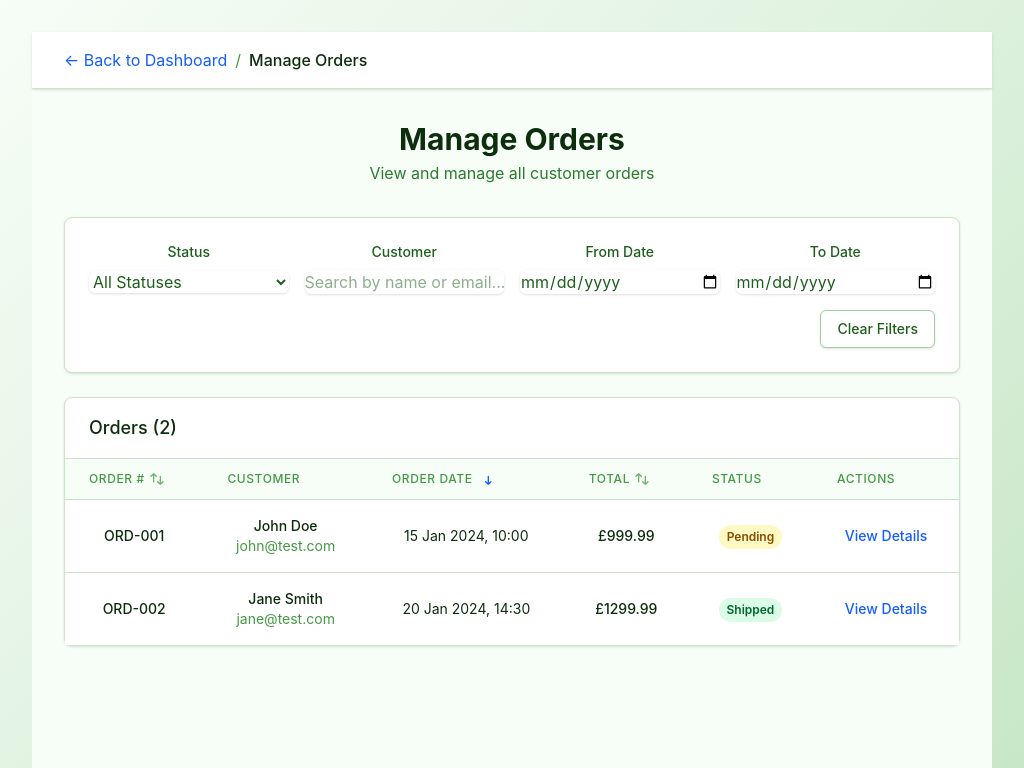
Test case: AdminOrdersListPage › Filtering › should clear all filters
Expected: the text "ORD-001" is shown, 65,500 -> 203,572
Note: Set some filters first
Select "Pending" in the dropdown showing "All Statuses" at (189, 282), box 89,271 -> 288,293
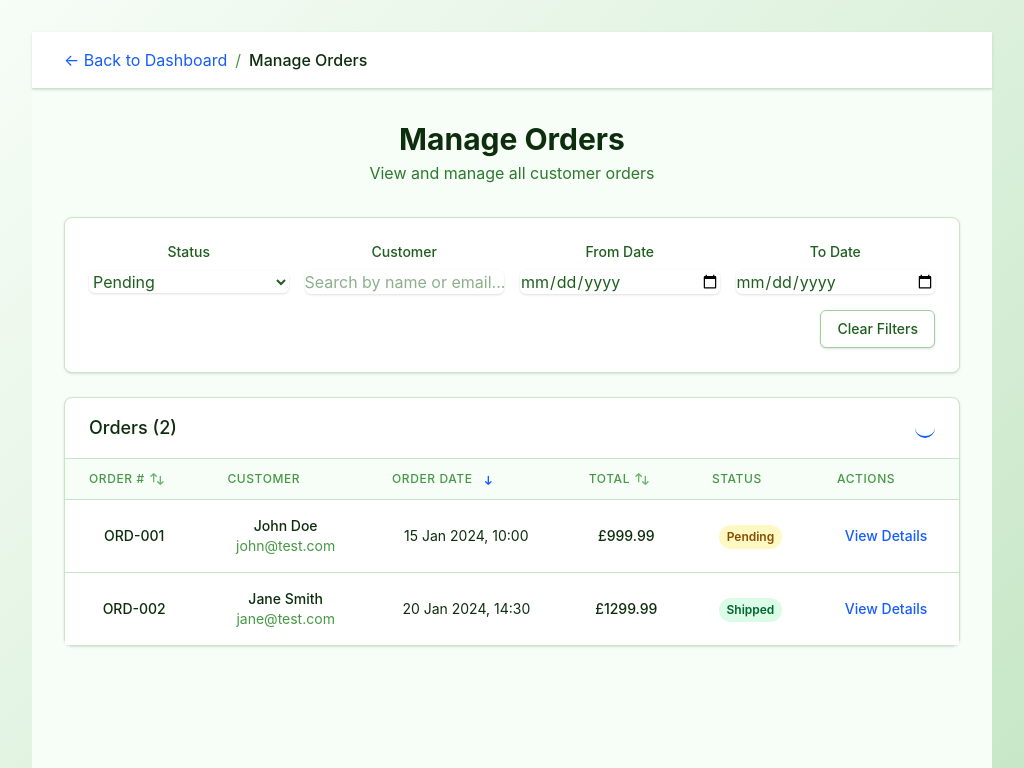
Type "john" into the field with placeholder "Search by name or email..." at (404, 282), box 304,270 -> 504,294
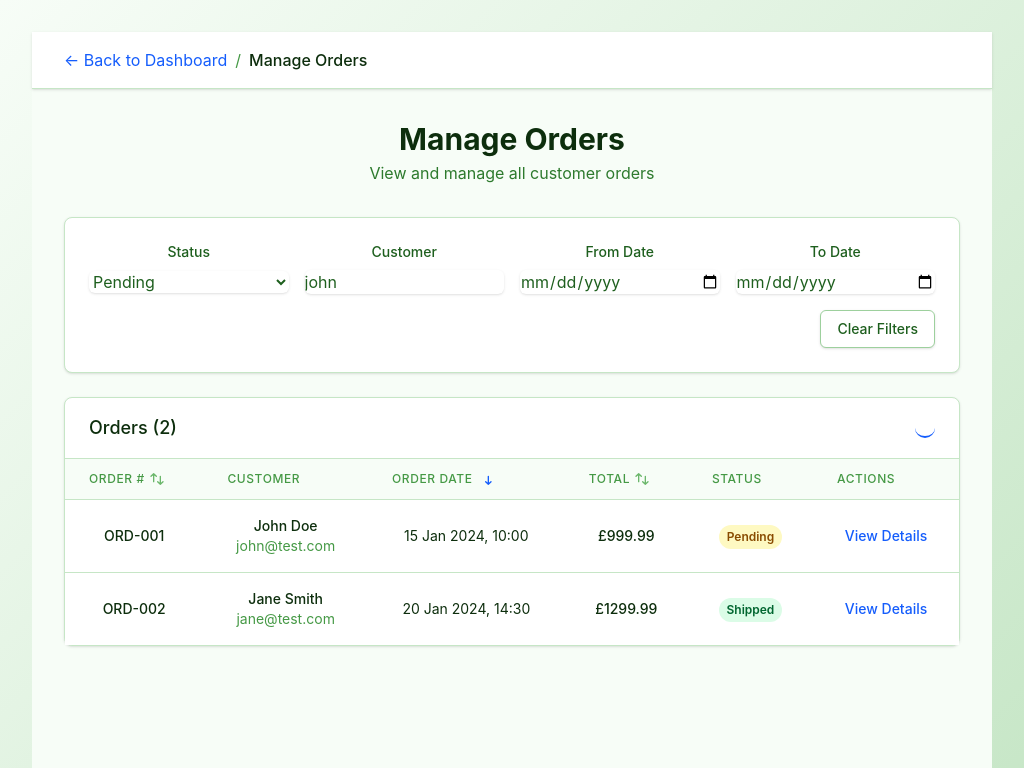
Note: Clear filters
Click the button "Clear Filters" at (878, 329), box 820,310 -> 935,348
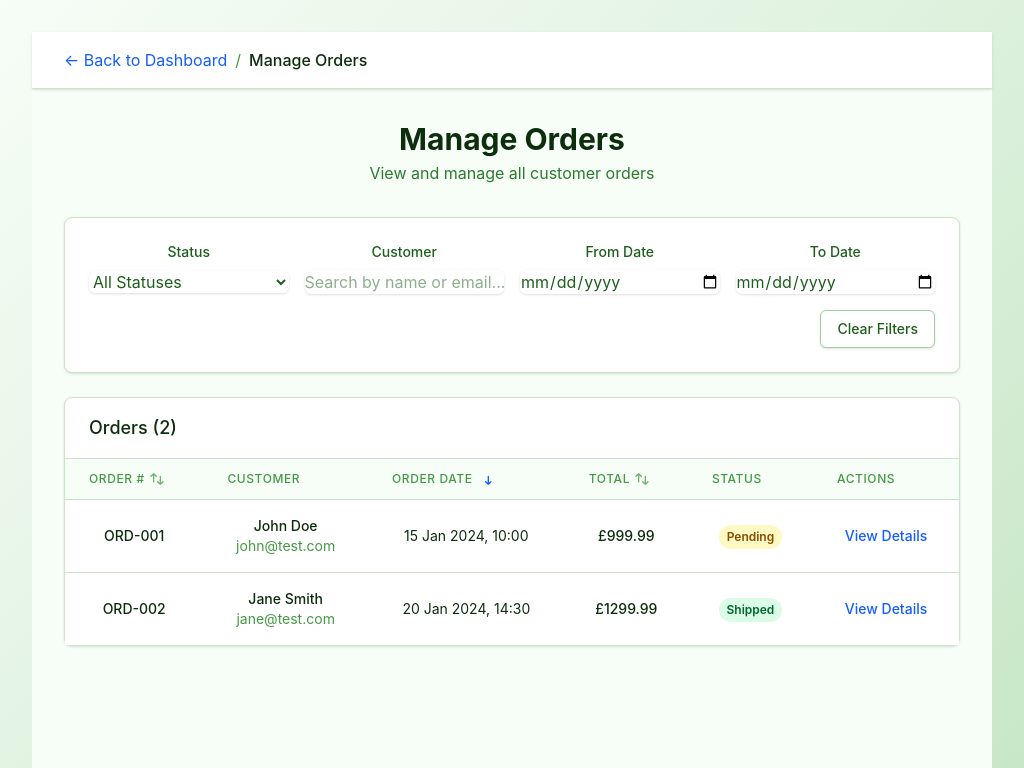
Expected: the field with placeholder "Search by name or email..." is empty, 304,270 -> 504,294
